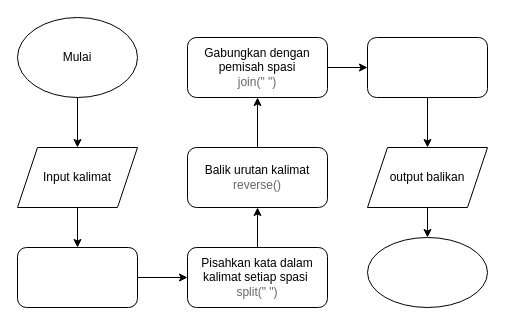
The diagram is 505 pixels wide and 325 high, and some of its shapes have lost their labels. The centre of each missing label's shape, as x and y in pixels:
balikan = '': the point at 77,277
Selesai: the point at 427,272
Simpan nilai dalam variabel balikan: the point at 427,67
